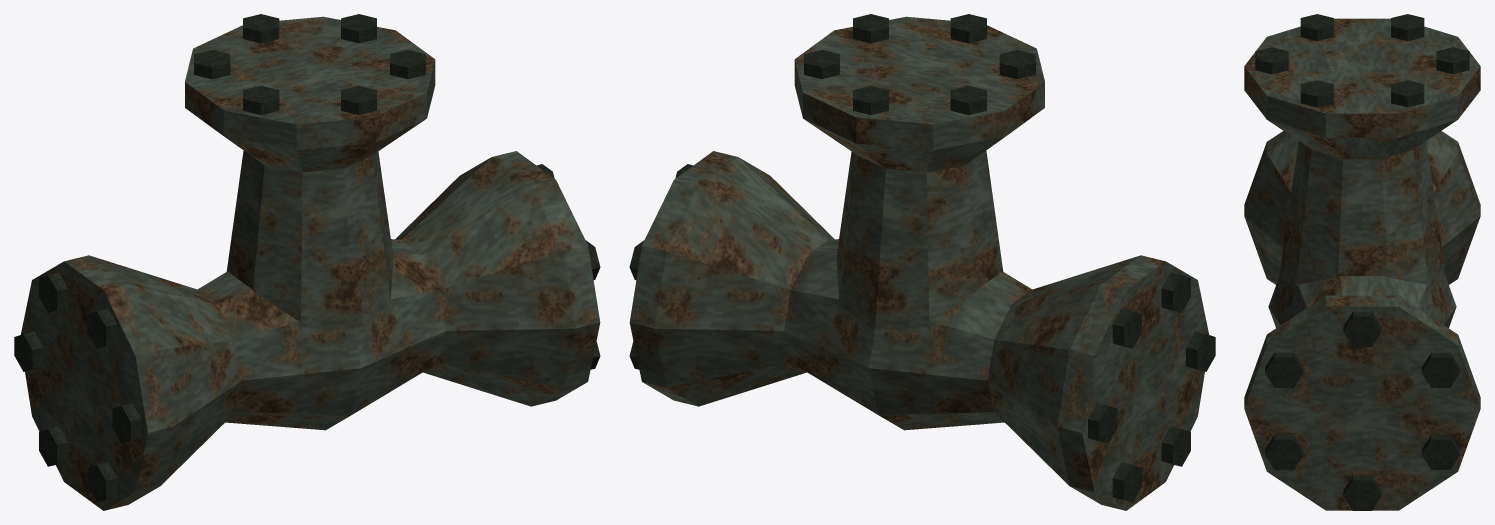
Rendered from SM_Pipe_Tee.fbx.
3 renders of one model, left to right at view 1: azimuth 30°, elevation 25°; view 2: azimuth 150°, elevation 25°; view 3: azimuth 270°, elevation 25°, orthographic. The views are drawn at different scales.
Visible parts, largest first — view 1: SM_Pipe_Tee; view 2: SM_Pipe_Tee; view 3: SM_Pipe_Tee.
Boxes of the visible parts, x1=… form: SM_Pipe_Tee: x1=14, y1=14, x2=600, y2=510; SM_Pipe_Tee: x1=629, y1=14, x2=1215, y2=510; SM_Pipe_Tee: x1=1244, y1=14, x2=1480, y2=510.
Size of the model in its own units: 0.42 by 0.3232 by 0.196.
